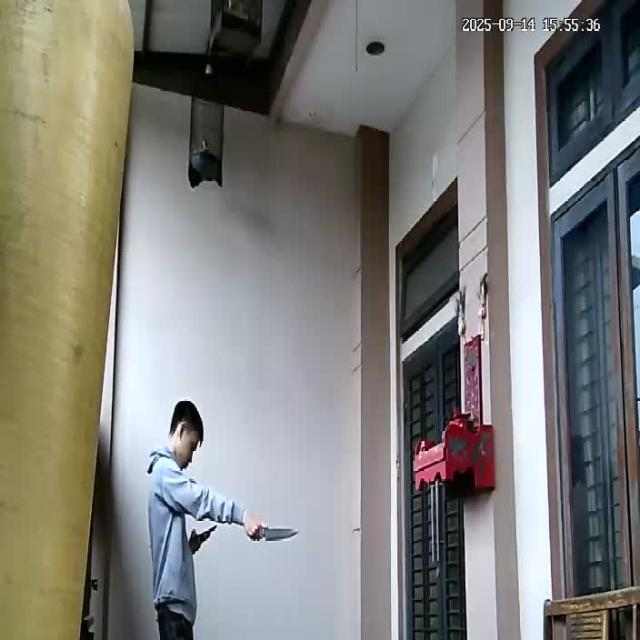senjata_tajam: (260, 525, 298, 541)
